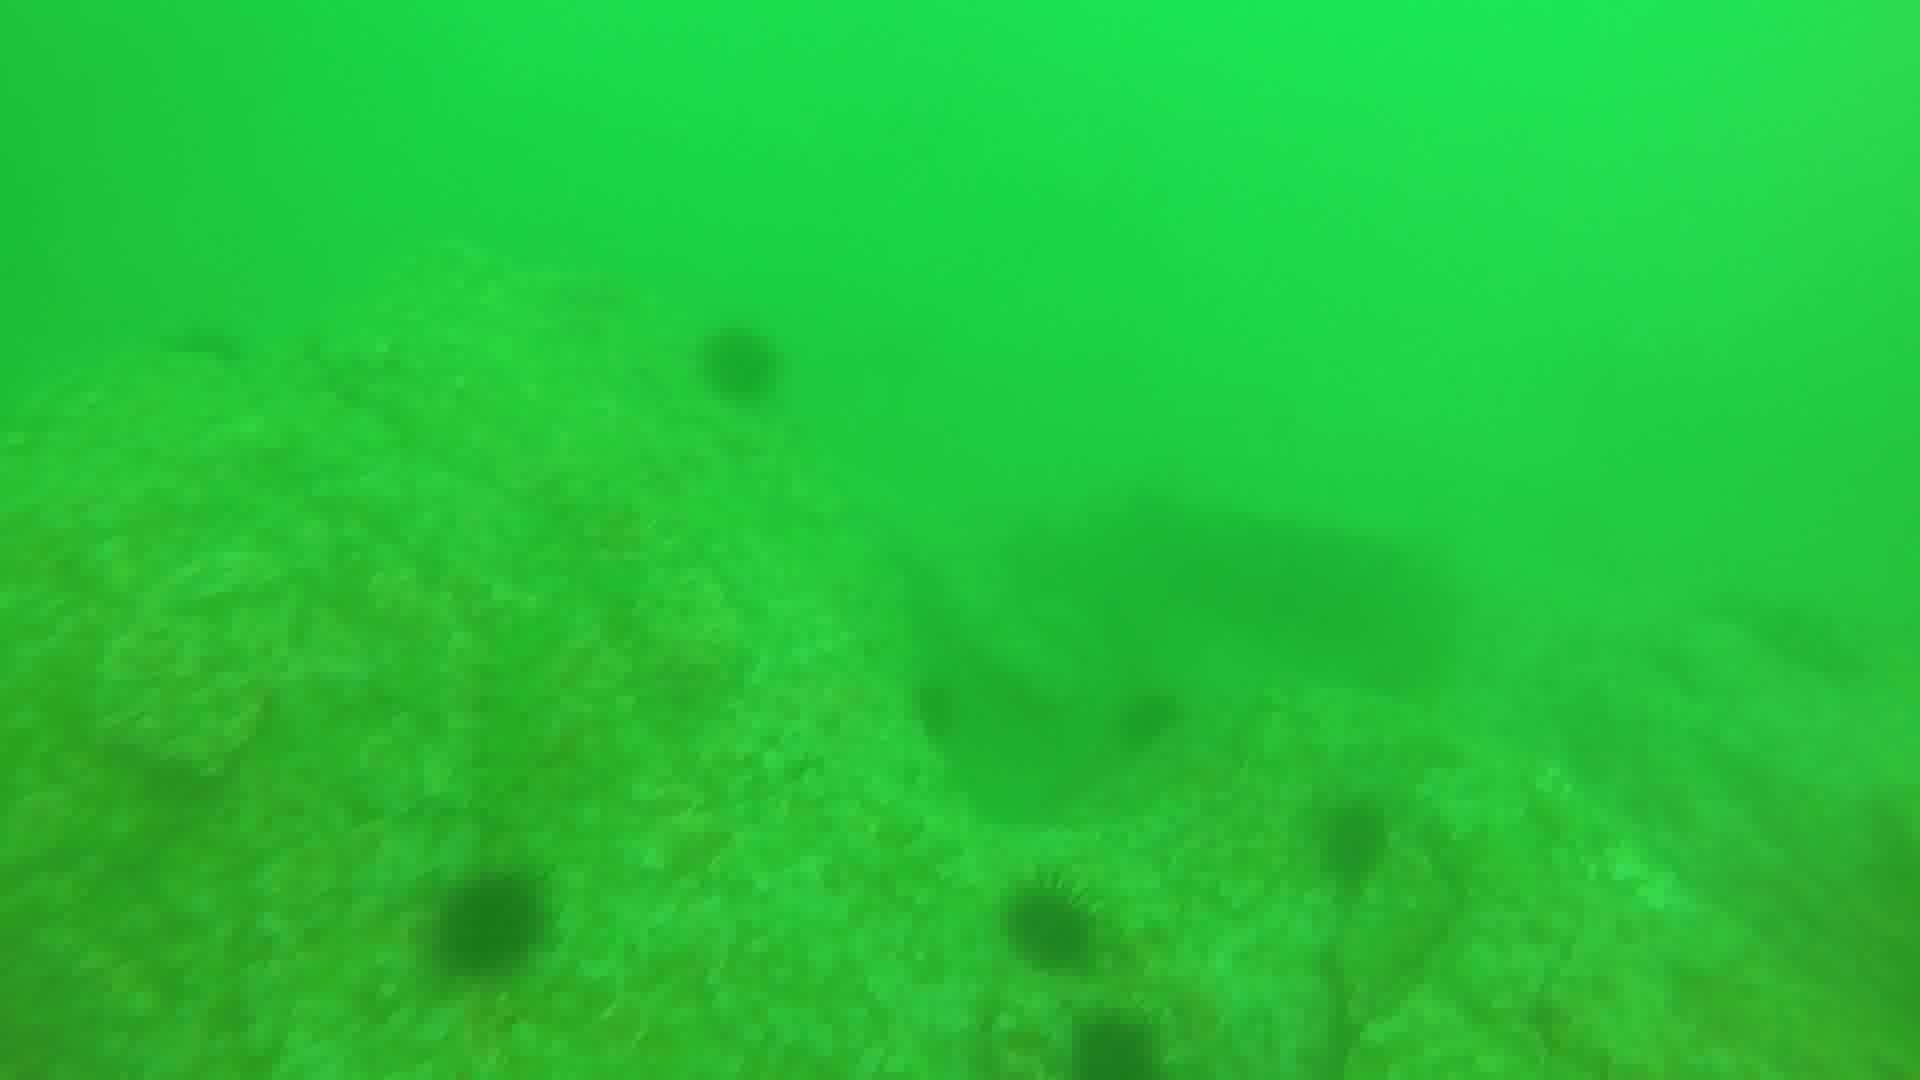echinus: (429, 866, 551, 982), (997, 876, 1104, 977), (1311, 795, 1396, 887), (696, 320, 785, 404), (1065, 1007, 1166, 1080), (1112, 682, 1187, 752), (905, 671, 971, 748)
